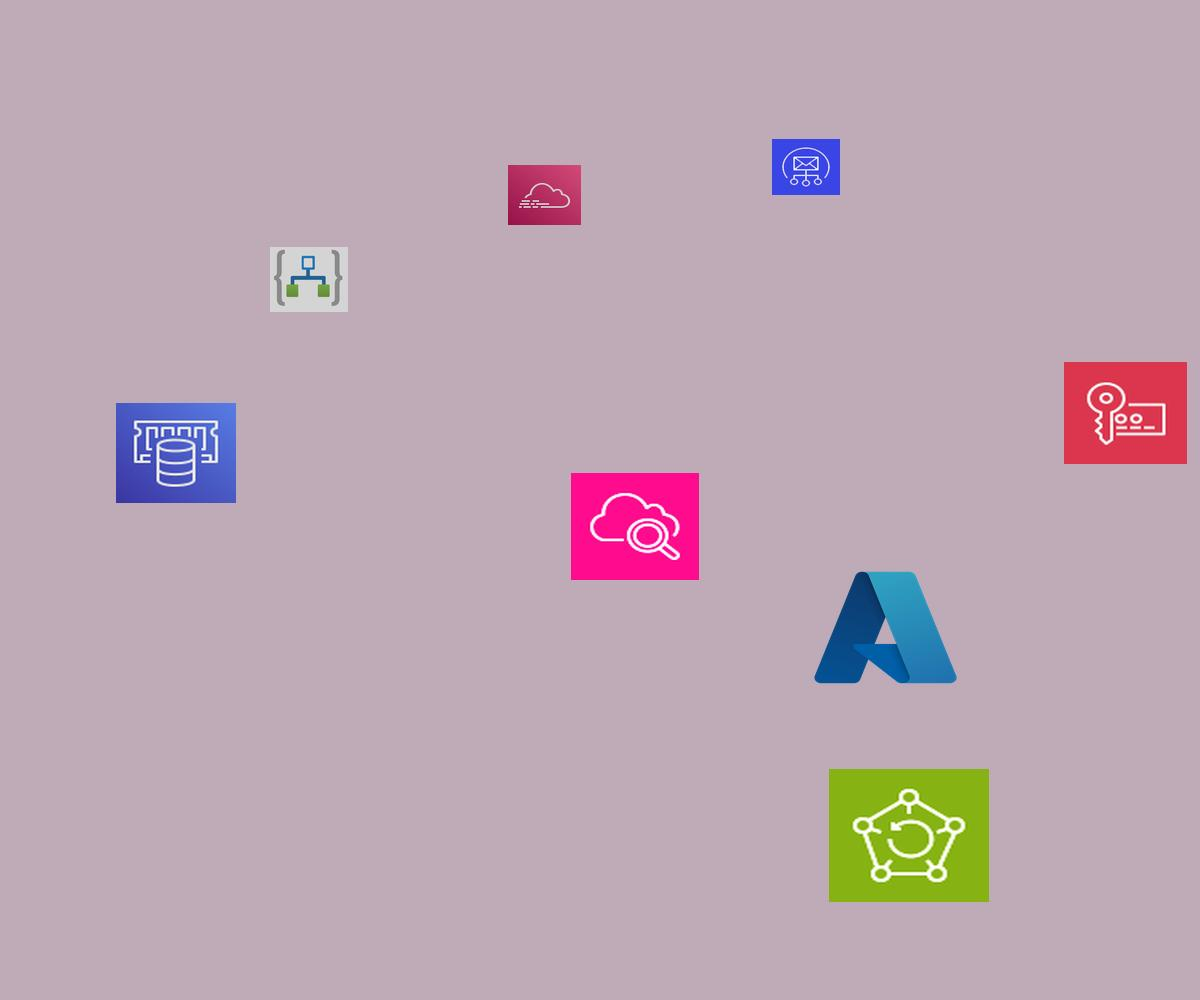AWS-Backup: (829, 769, 989, 902)
AWS-CloudTrail: (508, 165, 581, 225)
AWS-CloudWatch: (571, 473, 699, 580)
AWS-ElastiCache: (116, 403, 236, 503)
AWS-Key-Management-Service: (1064, 362, 1187, 464)
AWS-Simple-Email-Service: (772, 139, 840, 195)
Azure_integration-204-Logic-Apps: (270, 247, 348, 312)
Azure_services: (808, 563, 963, 692)
